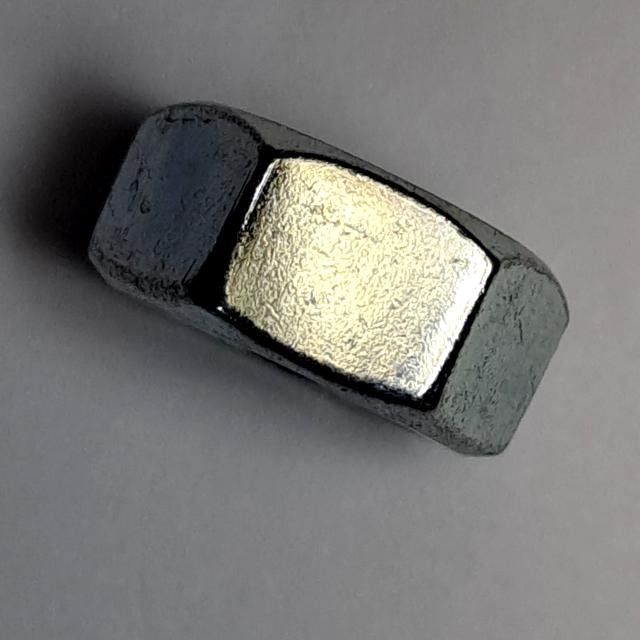Side_Excellent: (81, 91, 580, 469)
